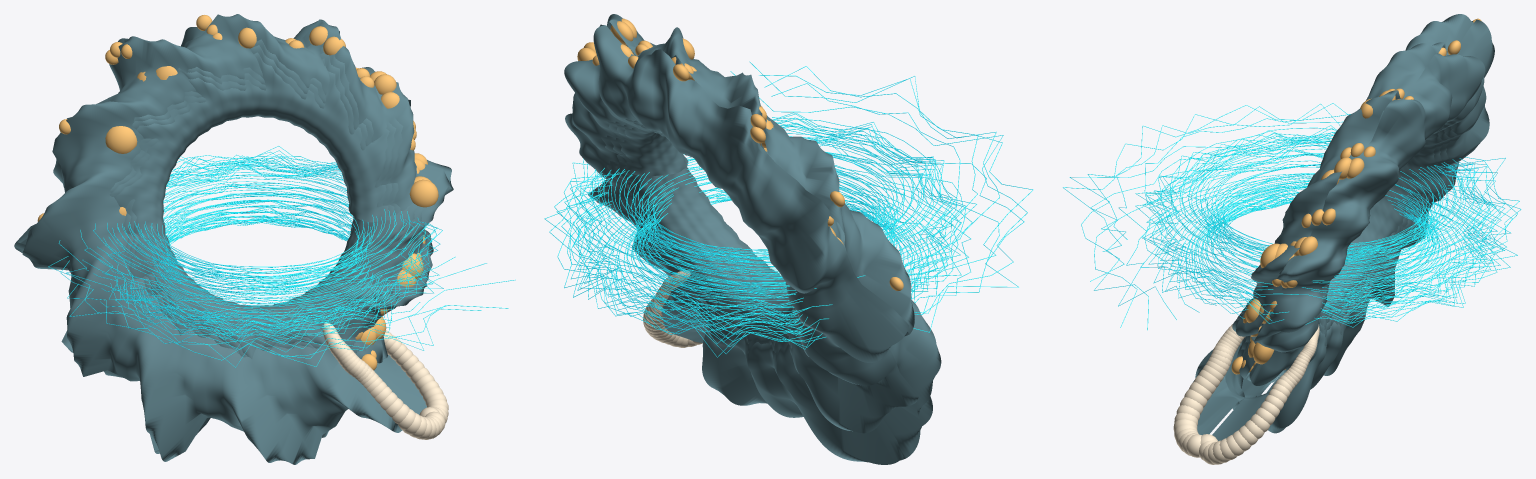
The model's file is angaria_delphinus_illert_cortie.glb.
3 renders of one model, left to right at view 1: azimuth 30°, elevation 25°; view 2: azimuth 150°, elevation 25°; view 3: azimuth 270°, elevation 25°, orthographic. The views are drawn at different scales.
Parts seen in each view (by area): view 1: Angaria_Delphinus_Illert_Cortie_Shell, cyan_violet_abalone_growth_line.021, cyan_violet_abalone_growth_line, cyan_violet_abalone_growth_line.020, cyan_violet_abalone_growth_line.001, cyan_violet_abalone_growth_line.002, cyan_violet_abalone_growth_line.019, cyan_violet_abalone_growth_line.004, cyan_violet_abalone_growth_line.003, cyan_violet_abalone_growth_line.005, cyan_violet_abalone_growth_line.006, cyan_violet_abalone_growth_line.018 (+13 smaller); view 2: Angaria_Delphinus_Illert_Cortie_Shell, cyan_violet_abalone_growth_line, cyan_violet_abalone_growth_line.001, cyan_violet_abalone_growth_line.021, cyan_violet_abalone_growth_line.002, cyan_violet_abalone_growth_line.020, cyan_violet_abalone_growth_line.003, cyan_violet_abalone_growth_line.019, cyan_violet_abalone_growth_line.004, cyan_violet_abalone_growth_line.005, cyan_violet_abalone_growth_line.018, cyan_violet_abalone_growth_line.017 (+11 smaller); view 3: Angaria_Delphinus_Illert_Cortie_Shell, cyan_violet_abalone_growth_line, cyan_violet_abalone_growth_line.021, cyan_violet_abalone_growth_line.020, cyan_violet_abalone_growth_line.001, cyan_violet_abalone_growth_line.002, cyan_violet_abalone_growth_line.003, cyan_violet_abalone_growth_line.019, cyan_violet_abalone_growth_line.004, cyan_violet_abalone_growth_line.005, cyan_violet_abalone_growth_line.018, cyan_violet_abalone_growth_line.006 (+11 smaller).
Part boxes in pixels (x1,y1,x2,y2): Angaria_Delphinus_Illert_Cortie_Shell: (14, 14, 453, 464); cyan_violet_abalone_growth_line.021: (60, 183, 508, 358); cyan_violet_abalone_growth_line: (48, 160, 515, 348); cyan_violet_abalone_growth_line.020: (67, 193, 481, 366); cyan_violet_abalone_growth_line.001: (58, 154, 486, 315); cyan_violet_abalone_growth_line.002: (80, 151, 455, 300); cyan_violet_abalone_growth_line.019: (100, 201, 446, 367); cyan_violet_abalone_growth_line.004: (107, 156, 409, 283); cyan_violet_abalone_growth_line.003: (93, 146, 430, 291); cyan_violet_abalone_growth_line.005: (117, 162, 395, 277); cyan_violet_abalone_growth_line.006: (128, 168, 382, 277); cyan_violet_abalone_growth_line.018: (115, 207, 420, 352); Angaria_Delphinus_Illert_Cortie_Shell: (564, 14, 941, 464); cyan_violet_abalone_growth_line: (549, 71, 1027, 335); cyan_violet_abalone_growth_line.001: (544, 61, 1033, 315); cyan_violet_abalone_growth_line.021: (557, 136, 1024, 349); cyan_violet_abalone_growth_line.002: (554, 75, 999, 291); cyan_violet_abalone_growth_line.020: (564, 153, 999, 357); cyan_violet_abalone_growth_line.003: (570, 66, 978, 276); cyan_violet_abalone_growth_line.019: (571, 174, 970, 353); cyan_violet_abalone_growth_line.004: (592, 83, 960, 266); cyan_violet_abalone_growth_line.005: (608, 117, 940, 262); cyan_violet_abalone_growth_line.018: (579, 188, 947, 346); cyan_violet_abalone_growth_line.017: (596, 195, 929, 341); Angaria_Delphinus_Illert_Cortie_Shell: (1193, 14, 1494, 440); cyan_violet_abalone_growth_line: (1069, 133, 1521, 300); cyan_violet_abalone_growth_line.021: (1090, 134, 1512, 327); cyan_violet_abalone_growth_line.020: (1094, 166, 1510, 330); cyan_violet_abalone_growth_line.001: (1063, 103, 1517, 291); cyan_violet_abalone_growth_line.002: (1087, 103, 1519, 282); cyan_violet_abalone_growth_line.003: (1116, 106, 1491, 273); cyan_violet_abalone_growth_line.019: (1118, 183, 1494, 324); cyan_violet_abalone_growth_line.004: (1144, 118, 1474, 261); cyan_violet_abalone_growth_line.005: (1170, 127, 1464, 253); cyan_violet_abalone_growth_line.018: (1157, 190, 1484, 327); cyan_violet_abalone_growth_line.006: (1191, 140, 1456, 253).
Bounding box in the file's own units: 8.92 × 8.37 × 8.97.
